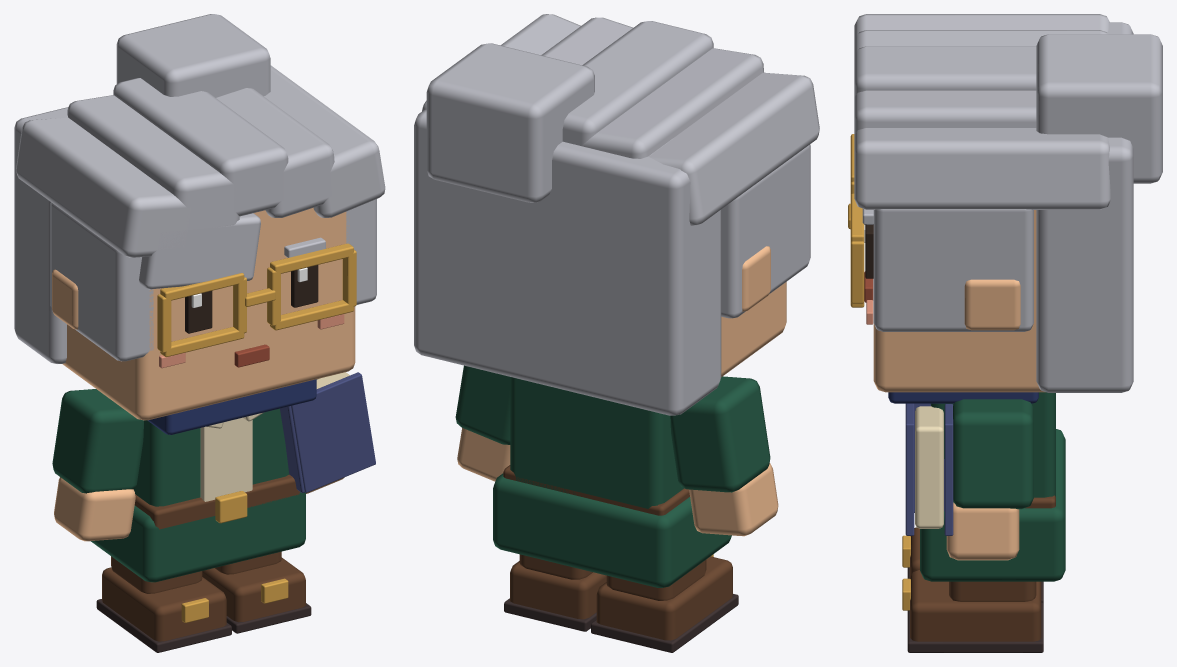
Rendered from NPC06_tree_archivist.glb.
The picture shows the model from 3 angles, left to right: view 1: azimuth 30°, elevation 25°; view 2: azimuth 150°, elevation 25°; view 3: azimuth 270°, elevation 25°; orthographic projection. The views are drawn at different scales.
Visible parts, largest first — view 1: Face, HairLock, Skirt, _MeshInstance3D_99, HairBun, SideHair, _MeshInstance3D_98, Sleeve, HairBack, _MeshInstance3D_92, Jacket, _MeshInstance3D_101 (+29 smaller); view 2: HairBack, HairBun, Jacket, Skirt, HairLock, SideHair, Sleeve, _MeshInstance3D_99, _MeshInstance3D_98, Boot, Hand, Boot2 (+11 smaller); view 3: _MeshInstance3D_101, HairBack, _MeshInstance3D_102, HairBun, Face, Sleeve2, _MeshInstance3D_99, Skirt, _MeshInstance3D_100, Boot2, HairLock, Hand2 (+12 smaller).
Part boxes in pixels (<box>): Face: <box>62,207,355,420</box>; HairLock: <box>16,117,191,257</box>; Skirt: <box>91,492,305,582</box>; _MeshInstance3D_99: <box>113,78,288,216</box>; HairBun: <box>116,14,270,97</box>; SideHair: <box>50,202,153,361</box>; _MeshInstance3D_98: <box>67,95,239,231</box>; Sleeve: <box>52,389,143,493</box>; HairBack: <box>14,107,90,363</box>; _MeshInstance3D_92: <box>291,372,375,492</box>; Jacket: <box>134,408,289,506</box>; _MeshInstance3D_101: <box>264,65,385,217</box>; HairBack: <box>414,109,721,415</box>; HairBun: <box>426,43,594,202</box>; Jacket: <box>510,377,683,508</box>; Skirt: <box>493,473,731,587</box>; HairLock: <box>649,72,819,225</box>; SideHair: <box>721,144,810,318</box>; Sleeve: <box>670,376,770,492</box>; _MeshInstance3D_99: <box>562,21,713,145</box>; _MeshInstance3D_98: <box>581,48,763,158</box>; Boot: <box>596,556,732,640</box>; Hand: <box>689,463,778,536</box>; Boot2: <box>510,561,606,619</box>; _MeshInstance3D_101: <box>854,128,1111,209</box>; HairBack: <box>1036,22,1133,392</box>; _MeshInstance3D_102: <box>873,209,1033,331</box>; HairBun: <box>1036,34,1162,183</box>; Face: <box>873,210,1045,392</box>; Sleeve2: <box>953,399,1033,509</box>; _MeshInstance3D_99: <box>854,46,1036,96</box>; Skirt: <box>920,429,1065,581</box>; _MeshInstance3D_100: <box>854,90,1036,135</box>; Boot2: <box>910,570,1041,641</box>; HairLock: <box>854,14,1109,40</box>; Hand2: <box>946,502,1019,560</box>.
Size of the model in its own units: 0.7291 by 1.31 by 0.6475.
